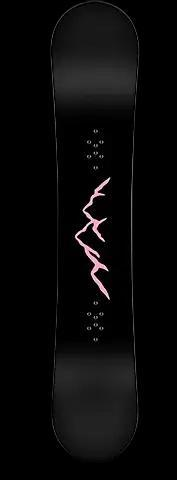Snowboard: (50, 0, 139, 462)
